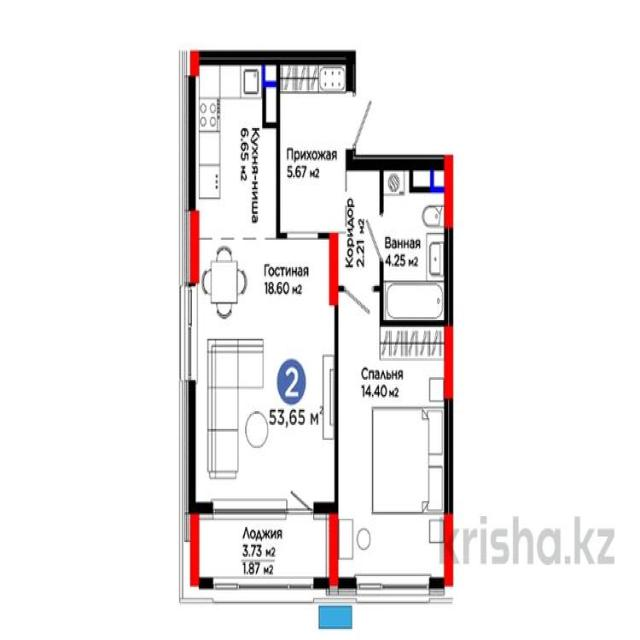balcony: (193, 509, 334, 584)
bathroom: (382, 163, 452, 324)
hallway: (279, 56, 351, 236)
kitchen: (190, 55, 277, 239)
living_room: (193, 238, 334, 510), (335, 324, 449, 580)
